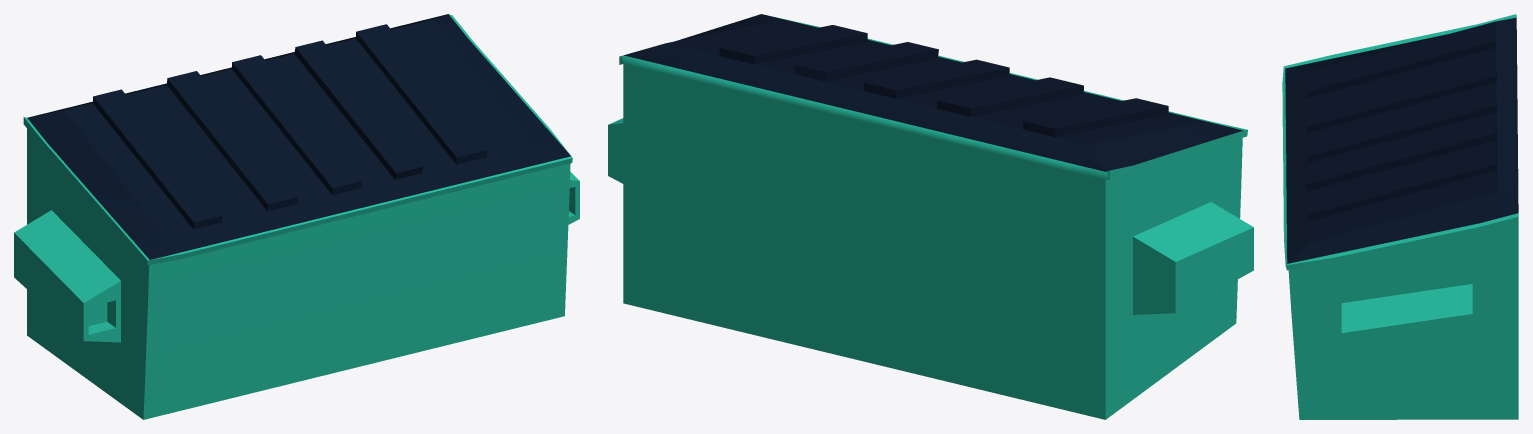
The model's file is Dumpster.fbx.
3 views of the same model, side by side, from view 1: azimuth 30°, elevation 25°; view 2: azimuth 150°, elevation 25°; view 3: azimuth 270°, elevation 25° (orthographic). The views are drawn at different scales.
Visible parts, largest first — view 1: pCube1; view 2: pCube1; view 3: pCube1.
Boxes of the visible parts, bbox=[...] form: pCube1: bbox=[14, 14, 579, 419]; pCube1: bbox=[608, 14, 1253, 419]; pCube1: bbox=[1282, 14, 1518, 419].
Bounding box in the file's own units: 127 × 57.06 × 55.
